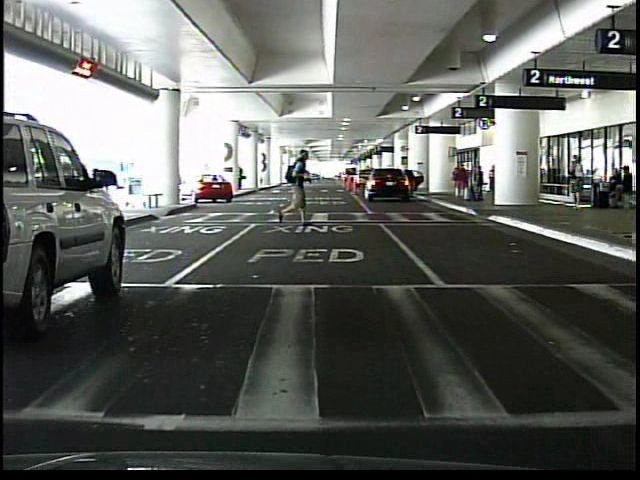person: (272, 146, 314, 226), (450, 160, 470, 201), (570, 160, 584, 208), (472, 166, 485, 201)
